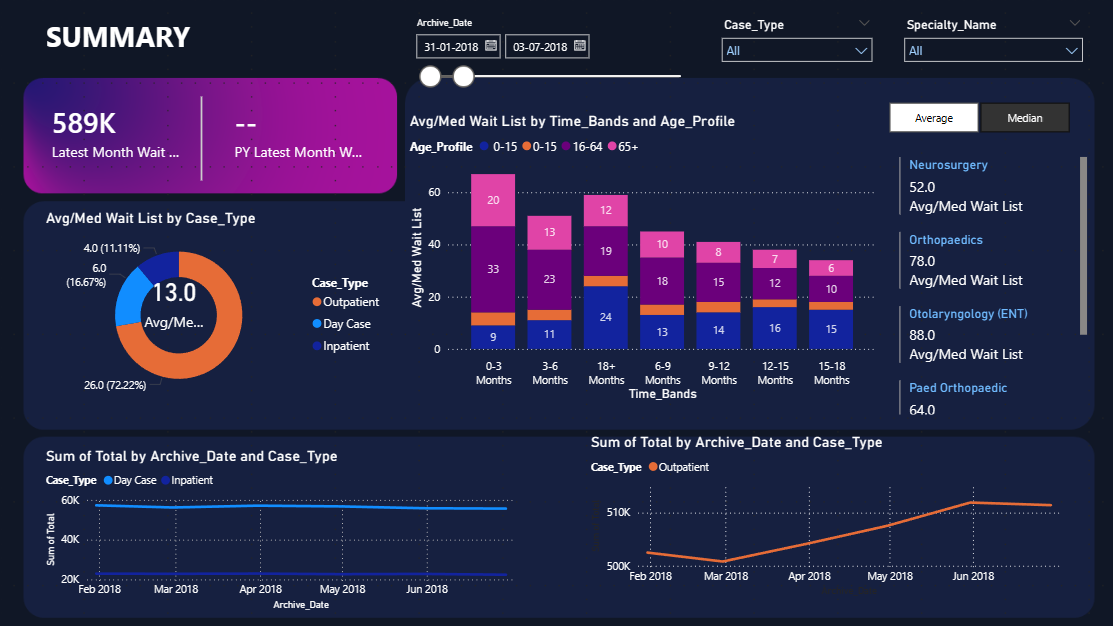

This screenshot's page, from the dashboard's own definition file:
{"tool":"powerbi","page":{"name":"Summary","canvas":[1280,720],"ordinal":0},"visuals":[{"type":"cardVisual","fields":{"Data":["All_Data.Latest Month Wait List"]},"box":[32,96,208,112],"z":0},{"type":"cardVisual","fields":{"Data":["All_Data.PY Latest Month Wait List"]},"box":[240,96,208,112],"z":1000},{"type":"slicer","fields":{"Values":["Calculation Method.Calc Method"]},"box":[992,112,256,48],"z":2000},{"type":"donutChart","fields":{"Category":["All_Data.Case_Type"],"Y":["All_Data.Avg/Med Wait List"]},"box":[48,240,400,224],"z":3000},{"type":"columnChart","fields":{"Y":["All_Data.Avg/Med Wait List"],"Series":["All_Data.Age_Profile"],"Category":["All_Data.Time_Bands"]},"box":[464,128,544,336],"z":4000},{"type":"multiRowCard","fields":{"Values":["All_Data.Speciality_Name","All_Data.Avg/Med Wait List"]},"box":[1024,176,224,304],"z":5000},{"type":"lineChart","fields":{"Category":["All_Data.Archive_Date"],"Series":["All_Data.Case_Type"],"Y":["Sum(All_Data.Total)"]},"box":[48,512,560,192],"z":6000},{"type":"lineChart","fields":{"Category":["All_Data.Archive_Date"],"Series":["All_Data.Case_Type"],"Y":["Sum(All_Data.Total)"]},"box":[672,496,560,192],"z":7000},{"type":"slicer","fields":{"Values":["All_Data.Archive_Date"]},"box":[464,16,336,96],"z":8000},{"type":"slicer","fields":{"Values":["All_Data.Case_Type"]},"box":[816,16,192,80],"z":9000},{"type":"slicer","fields":{"Values":["All_Data.Specialty_Name"]},"box":[1024,16,224,80],"z":10000},{"type":"textbox","box":[48,16,384,64],"z":11000},{"type":"card","fields":{"Values":["All_Data.Avg/Med Wait List"]},"box":[160,304,80,80],"z":12000},{"type":"shape","box":[112,112,240,96],"z":13000}]}

Visuals, with their boxes in screenshot pixels (x1, y1, x2, y2), scaled from the page's 1280x720 canvas onto the 1113x626 screenshot:
cardVisual - All_Data.Latest Month Wait List: region(28, 83, 209, 181)
cardVisual - All_Data.PY Latest Month Wait List: region(209, 83, 390, 181)
slicer - Calculation Method.Calc Method: region(863, 97, 1085, 139)
donutChart - All_Data.Case_Type x All_Data.Avg/Med Wait List: region(42, 209, 390, 403)
columnChart - All_Data.Avg/Med Wait List x All_Data.Age_Profile: region(403, 111, 876, 403)
multiRowCard - All_Data.Speciality_Name x All_Data.Avg/Med Wait List: region(890, 153, 1085, 417)
lineChart - All_Data.Archive_Date x All_Data.Case_Type: region(42, 445, 529, 612)
lineChart - All_Data.Archive_Date x All_Data.Case_Type: region(584, 431, 1071, 598)
slicer - All_Data.Archive_Date: region(403, 14, 696, 97)
slicer - All_Data.Case_Type: region(710, 14, 876, 83)
slicer - All_Data.Specialty_Name: region(890, 14, 1085, 83)
textbox: region(42, 14, 376, 70)
card - All_Data.Avg/Med Wait List: region(139, 264, 209, 334)
shape: region(97, 97, 306, 181)
